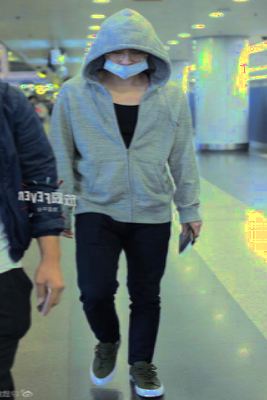mask_weared_incorrect: (102, 47, 149, 80)
